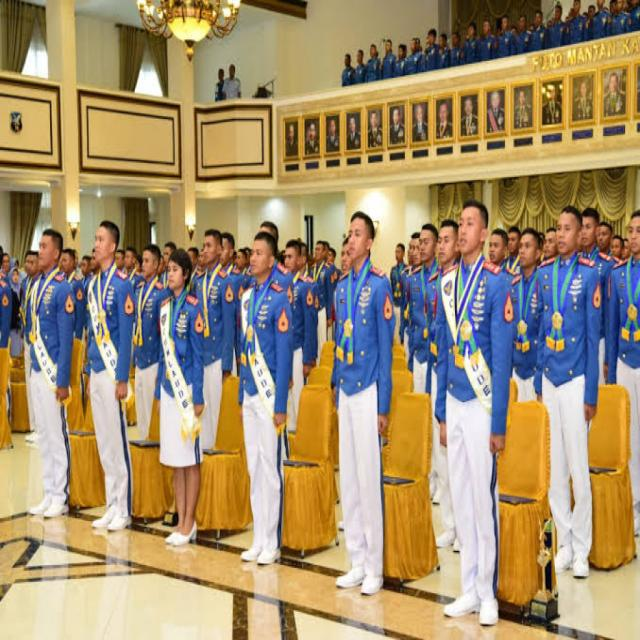peserta: (538, 199, 597, 594), (451, 198, 504, 629), (334, 194, 391, 586), (79, 214, 138, 534), (26, 226, 78, 529), (249, 231, 290, 596), (157, 229, 204, 538), (607, 203, 640, 592), (197, 218, 232, 472), (510, 230, 540, 428), (430, 212, 455, 425), (133, 243, 160, 422), (410, 215, 434, 398), (284, 232, 306, 429), (315, 236, 332, 357), (391, 238, 409, 352), (222, 62, 246, 123), (610, 3, 634, 51), (550, 1, 566, 61), (531, 6, 548, 58), (465, 17, 479, 78), (367, 34, 382, 90), (381, 34, 395, 94), (408, 32, 425, 80), (568, 0, 584, 49), (589, 0, 604, 51), (497, 12, 511, 66), (339, 48, 355, 93), (426, 23, 438, 80), (353, 45, 366, 96), (480, 20, 494, 66), (449, 25, 463, 70), (438, 28, 452, 71), (518, 14, 530, 62), (397, 37, 409, 78)
